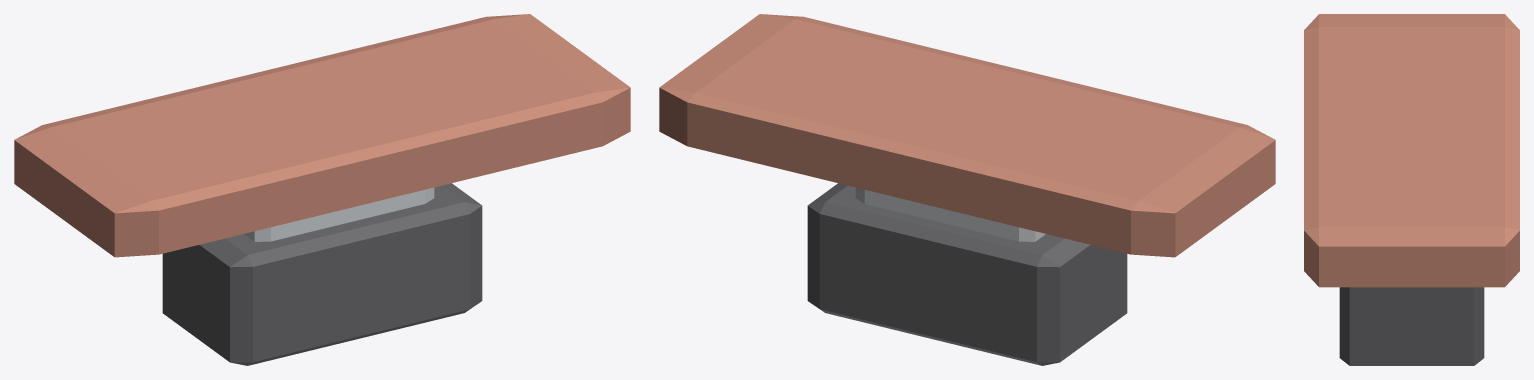
The model's file is b06_masonry_trowel.glb.
3 views of the same model, side by side, from view 1: azimuth 30°, elevation 25°; view 2: azimuth 150°, elevation 25°; view 3: azimuth 270°, elevation 25° (orthographic). The views are drawn at different scales.
Visible parts, largest first — view 1: b06_masonry_trowel; view 2: b06_masonry_trowel; view 3: b06_masonry_trowel.
Part boxes in pixels (bbox=[...]): b06_masonry_trowel: bbox=[14, 14, 630, 365]; b06_masonry_trowel: bbox=[659, 14, 1275, 365]; b06_masonry_trowel: bbox=[1304, 14, 1519, 365].
Size of the model in its own units: 0.306 by 0.116 by 0.12.
